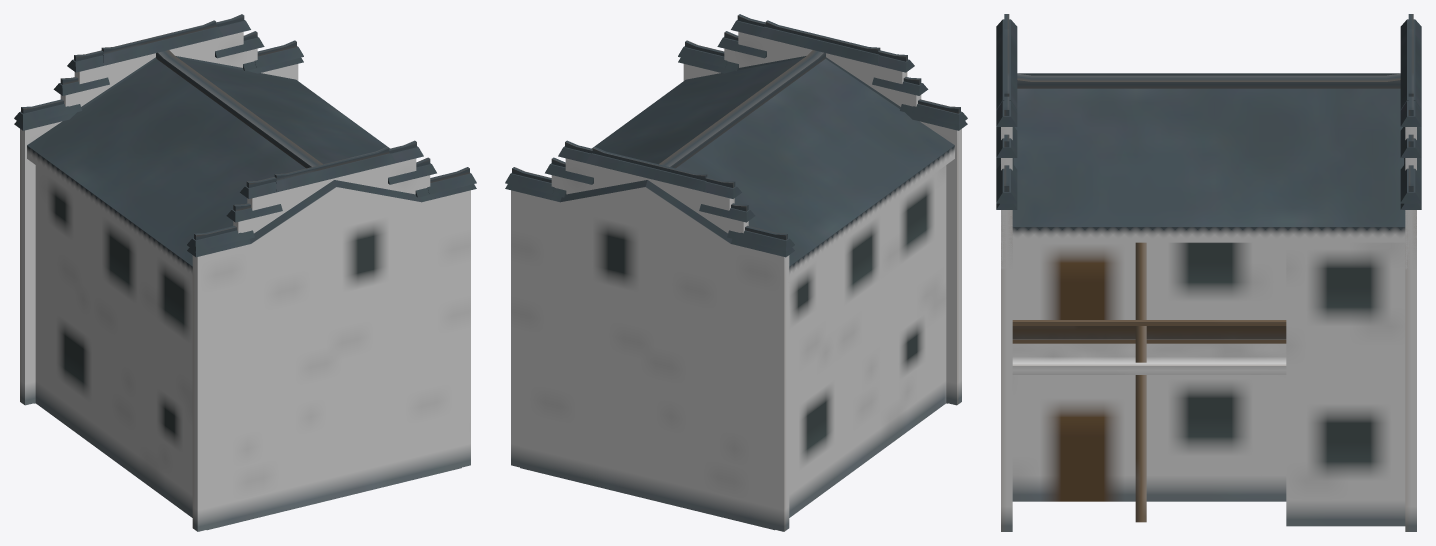
Rendered from Hui_Building_Residential_L2_01_Mod.fbx.
3 views of the same model, side by side, from view 1: azimuth 30°, elevation 25°; view 2: azimuth 150°, elevation 25°; view 3: azimuth 270°, elevation 25° (orthographic). The views are drawn at different scales.
Parts seen in each view (by area): view 1: Hui_Building_Residential_WallL_L2_04_Mod, Hui_Building_Residential_L2_01_Mod, Hui_Building_Residential_WallL_L2_05_Mod, Hui_Building_Residential_WallR_L2_04_Mod, Hui_Building_Residential_WallL_L2_06_Mod, Hui_Building_Residential_WallR_L2_06_Mod, Hui_Building_Residential_WallR_L2_05_Mod; view 2: Hui_Building_Residential_WallR_L2_04_Mod, Hui_Building_Residential_L2_01_Mod, Hui_Building_Residential_WallR_L2_06_Mod, Hui_Building_Residential_WallL_L2_04_Mod, Hui_Building_Residential_WallL_L2_06_Mod, Hui_Building_Residential_WallR_L2_05_Mod, Hui_Building_Residential_WallL_L2_05_Mod; view 3: Hui_Building_Residential_L2_01_Mod, Hui_Building_Residential_WallL_L2_04_Mod, Hui_Building_Residential_WallR_L2_04_Mod, Hui_Building_Residential_WallL_L2_06_Mod, Hui_Building_Residential_WallR_L2_06_Mod.
Part boxes in pixels (left/top/right/bottom): Hui_Building_Residential_WallL_L2_04_Mod: left=187, top=147, right=476, bottom=531; Hui_Building_Residential_L2_01_Mod: left=27, top=50, right=389, bottom=517; Hui_Building_Residential_WallL_L2_05_Mod: left=187, top=180, right=476, bottom=493; Hui_Building_Residential_WallR_L2_04_Mod: left=14, top=20, right=303, bottom=405; Hui_Building_Residential_WallL_L2_06_Mod: left=187, top=140, right=476, bottom=530; Hui_Building_Residential_WallR_L2_06_Mod: left=14, top=14, right=303, bottom=403; Hui_Building_Residential_WallR_L2_05_Mod: left=14, top=56, right=303, bottom=346; Hui_Building_Residential_WallR_L2_04_Mod: left=505, top=147, right=794, bottom=531; Hui_Building_Residential_L2_01_Mod: left=592, top=50, right=954, bottom=517; Hui_Building_Residential_WallR_L2_06_Mod: left=505, top=140, right=794, bottom=530; Hui_Building_Residential_WallL_L2_04_Mod: left=678, top=20, right=967, bottom=405; Hui_Building_Residential_WallL_L2_06_Mod: left=678, top=14, right=967, bottom=403; Hui_Building_Residential_WallR_L2_05_Mod: left=505, top=180, right=794, bottom=529; Hui_Building_Residential_WallL_L2_05_Mod: left=678, top=56, right=967, bottom=130; Hui_Building_Residential_L2_01_Mod: left=1012, top=73, right=1405, bottom=526; Hui_Building_Residential_WallL_L2_04_Mod: left=996, top=29, right=1017, bottom=531; Hui_Building_Residential_WallR_L2_04_Mod: left=1400, top=29, right=1421, bottom=531; Hui_Building_Residential_WallL_L2_06_Mod: left=996, top=14, right=1017, bottom=269; Hui_Building_Residential_WallR_L2_06_Mod: left=1400, top=14, right=1421, bottom=269.
Size of the model in its own units: 730 by 835 by 819.
